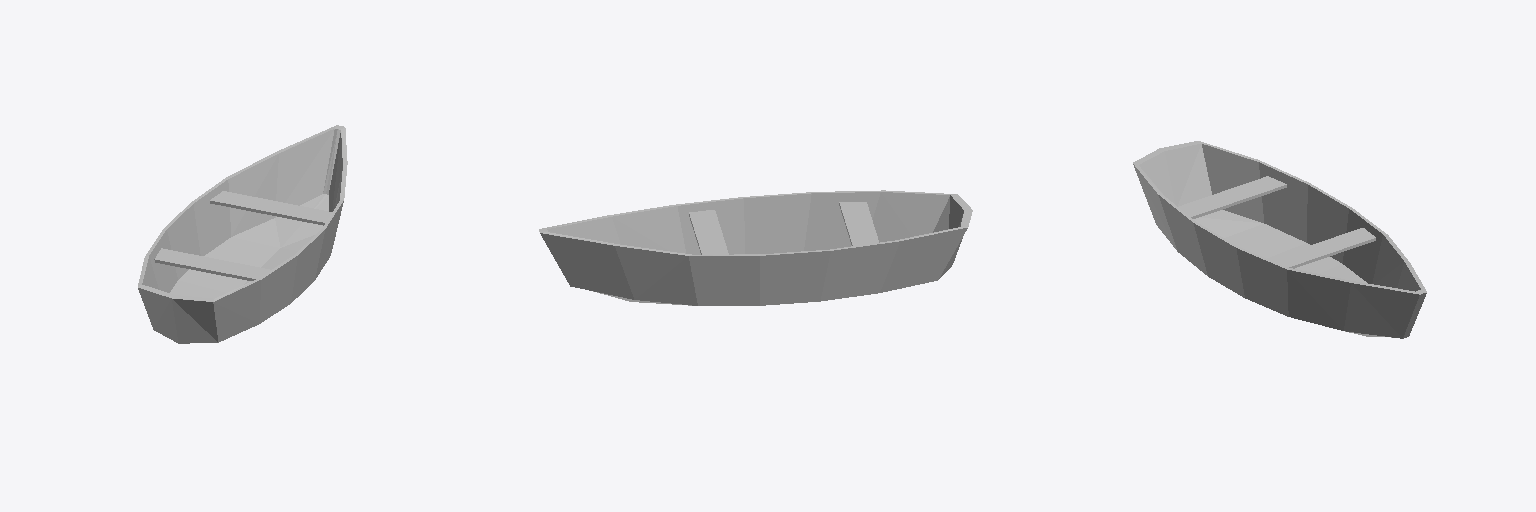
File: boats_3.obj
3 views of the same model, side by side, from view 1: azimuth 30°, elevation 25°; view 2: azimuth 150°, elevation 25°; view 3: azimuth 270°, elevation 25° (orthographic).
Visible parts, largest first — view 1: Cube.119_Cube.135, Cube.135_Cube.136; view 2: Cube.119_Cube.135, Cube.135_Cube.136; view 3: Cube.119_Cube.135, Cube.135_Cube.136.
Part boxes in pixels (bbox=[...]): Cube.119_Cube.135: bbox=[138, 125, 347, 343]; Cube.135_Cube.136: bbox=[154, 191, 331, 280]; Cube.119_Cube.135: bbox=[539, 190, 972, 305]; Cube.135_Cube.136: bbox=[689, 202, 878, 254]; Cube.119_Cube.135: bbox=[1133, 141, 1426, 338]; Cube.135_Cube.136: bbox=[1179, 176, 1375, 268].
Size of the model in its own units: 3.38 by 0.7945 by 2.7.